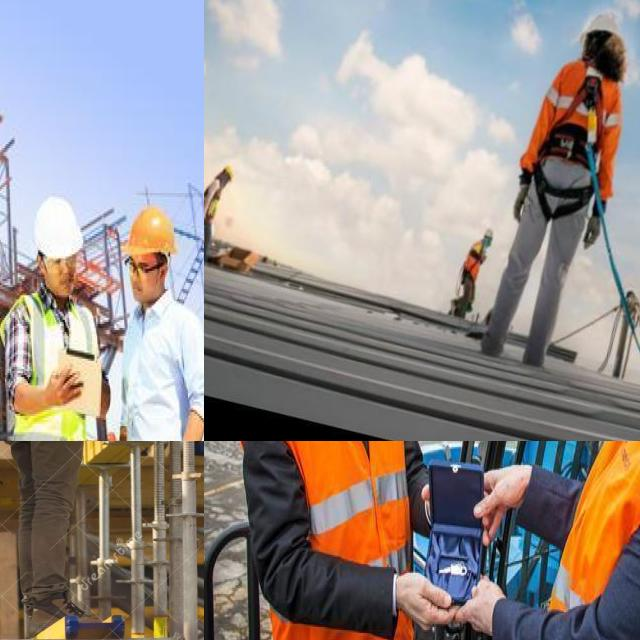Harness: (542, 75, 603, 168)
face_nomask: (45, 254, 79, 304), (128, 252, 157, 300)
glasses: (122, 258, 150, 279)
hand_noglove: (398, 564, 459, 640), (478, 453, 531, 539), (456, 558, 508, 640), (46, 363, 91, 414)
head_helmet: (35, 199, 84, 267), (124, 210, 178, 258)
person: (238, 441, 423, 640), (4, 183, 93, 441), (120, 197, 204, 441), (539, 441, 640, 640), (15, 441, 127, 586)
vest: (263, 441, 427, 633), (556, 441, 640, 640), (17, 299, 102, 441)
